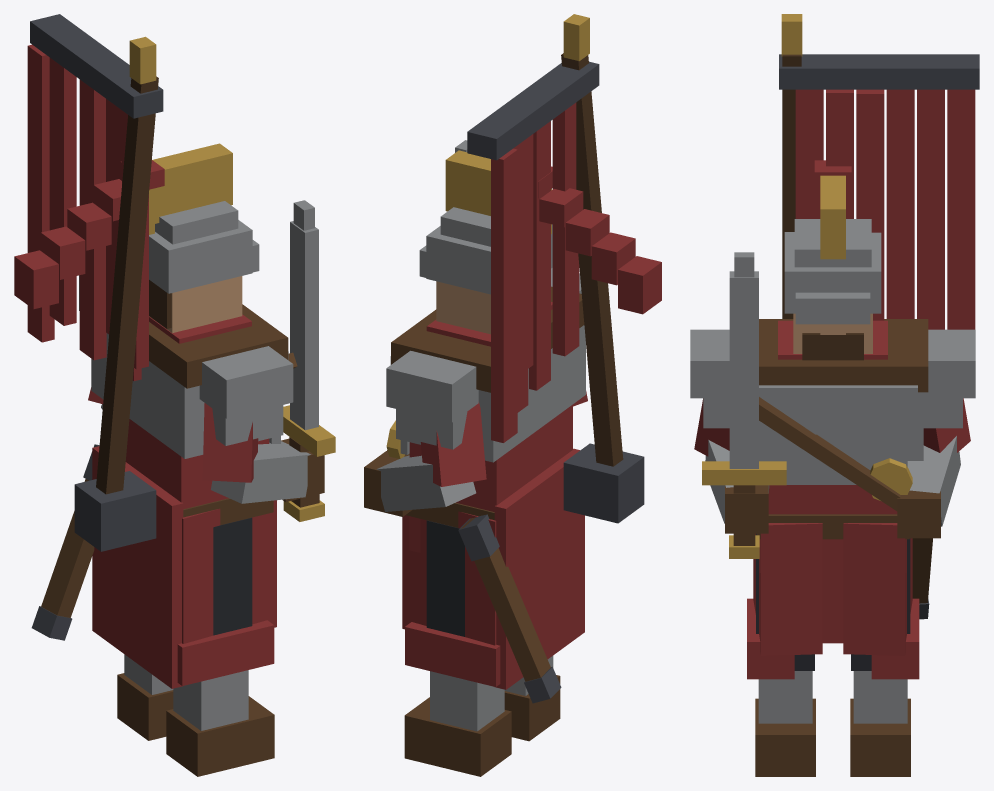
The model's file is hero.glb.
3 renders of one model, left to right at view 1: azimuth 30°, elevation 25°; view 2: azimuth 150°, elevation 25°; view 3: azimuth 270°, elevation 25°, orthographic. The views are drawn at different scales.
Parts seen in each view (by area): view 1: banner_cloth, Cube.017, Cube.050, Cube.013, Cube.011, Cube.057, Cube.052, Cube.007, Cube.045, Cube.027, Cube.051, Cube.021 (+26 smaller); view 2: banner_cloth, Cube.017, Cube.050, Cube.052, Cube.003, Cube.040, Cube.051, Cube.011, Cube.010, Cube.015, Cube, Cube.016 (+21 smaller); view 3: banner_cloth, Cube.015, Cube.013, Cube.018, Cube.021, Cube.052, Cube.057, Cube.019, Cube.027, Cube.003, Cube.007, Cube.040 (+36 smaller).
Boxes of the visible parts, left/top/right/bottom form: banner_cloth: left=27, top=44, right=148, bottom=381; Cube.017: left=92, top=446, right=183, bottom=688; Cube.050: left=96, top=76, right=158, bottom=494; Cube.013: left=182, top=500, right=276, bottom=643; Cube.011: left=91, top=333, right=283, bottom=458; Cube.057: left=290, top=221, right=318, bottom=430; Cube.052: left=30, top=14, right=163, bottom=118; Cube.007: left=166, top=696, right=274, bottom=776; Cube.045: left=199, top=346, right=293, bottom=418; Cube.027: left=149, top=220, right=252, bottom=293; Cube.051: left=74, top=471, right=156, bottom=551; Cube.021: left=149, top=304, right=288, bottom=388; banner_cloth: left=491, top=102, right=579, bottom=442; Cube.017: left=494, top=448, right=584, bottom=689; Cube.050: left=561, top=53, right=623, bottom=466; Cube.052: left=467, top=61, right=599, bottom=160; Cube.003: left=404, top=697, right=511, bottom=776; Cube.040: left=386, top=350, right=478, bottom=422; Cube.051: left=563, top=443, right=644, bottom=523; Cube.011: left=396, top=325, right=585, bottom=462; Cube.010: left=409, top=404, right=572, bottom=511; Cube.015: left=402, top=511, right=496, bottom=645; Cube: left=426, top=520, right=464, bottom=636; Cube.016: left=405, top=622, right=500, bottom=686; banner_cloth: left=795, top=89, right=975, bottom=329; Cube.015: left=843, top=523, right=912, bottom=655; Cube.013: left=753, top=523, right=822, bottom=655; Cube.018: left=759, top=385, right=917, bottom=434; Cube.021: left=759, top=319, right=928, bottom=392; Cube.052: left=779, top=54, right=979, bottom=89; Cube.057: left=729, top=271, right=758, bottom=468; Cube.019: left=759, top=434, right=907, bottom=484; Cube.027: left=784, top=232, right=881, bottom=313; Cube.003: left=850, top=698, right=910, bottom=776; Cube.007: left=755, top=698, right=815, bottom=776; Cube.040: left=923, top=329, right=975, bottom=398.
Bounding box in the file's own units: 10.75 × 30.3 × 11.25.
